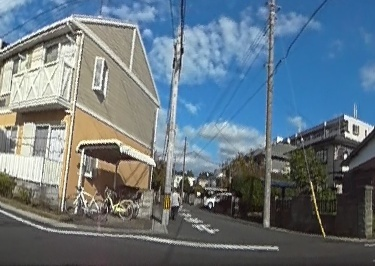person: (169, 186, 179, 218)
